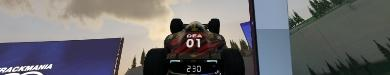Car: (142, 17, 245, 74)
Solid White and black: (245, 0, 297, 74)
obstacles-Borders: (0, 37, 124, 74)
